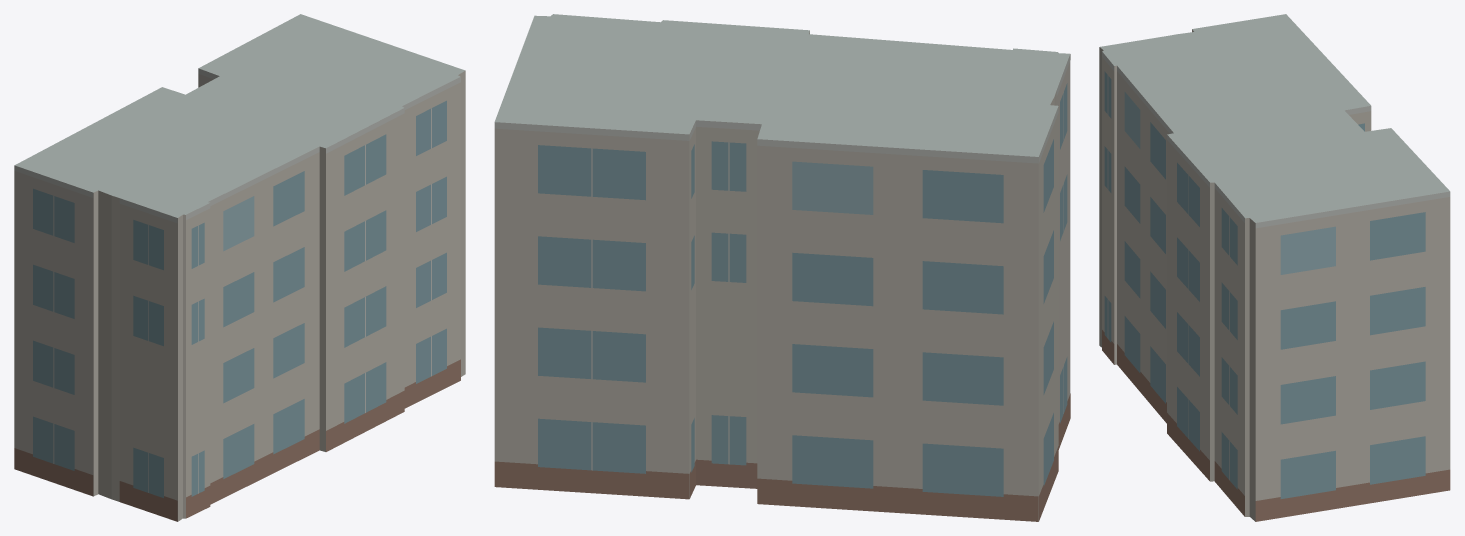
The model's file is survey-upis-32832919.glb.
The picture shows the model from 3 angles, left to right: view 1: azimuth 30°, elevation 25°; view 2: azimuth 150°, elevation 25°; view 3: azimuth 270°, elevation 25°; orthographic projection. The views are drawn at different scales.
Parts seen in each view (by area): view 1: survey-upis-32832919.tmp; view 2: survey-upis-32832919.tmp; view 3: survey-upis-32832919.tmp.
Boxes of the visible parts, x1,y1,x2,y2 form: survey-upis-32832919.tmp: [14, 14, 465, 521]; survey-upis-32832919.tmp: [494, 14, 1070, 521]; survey-upis-32832919.tmp: [1099, 14, 1450, 521].
Bounding box in the file's own units: 20.47 × 13.64 × 14.52.
